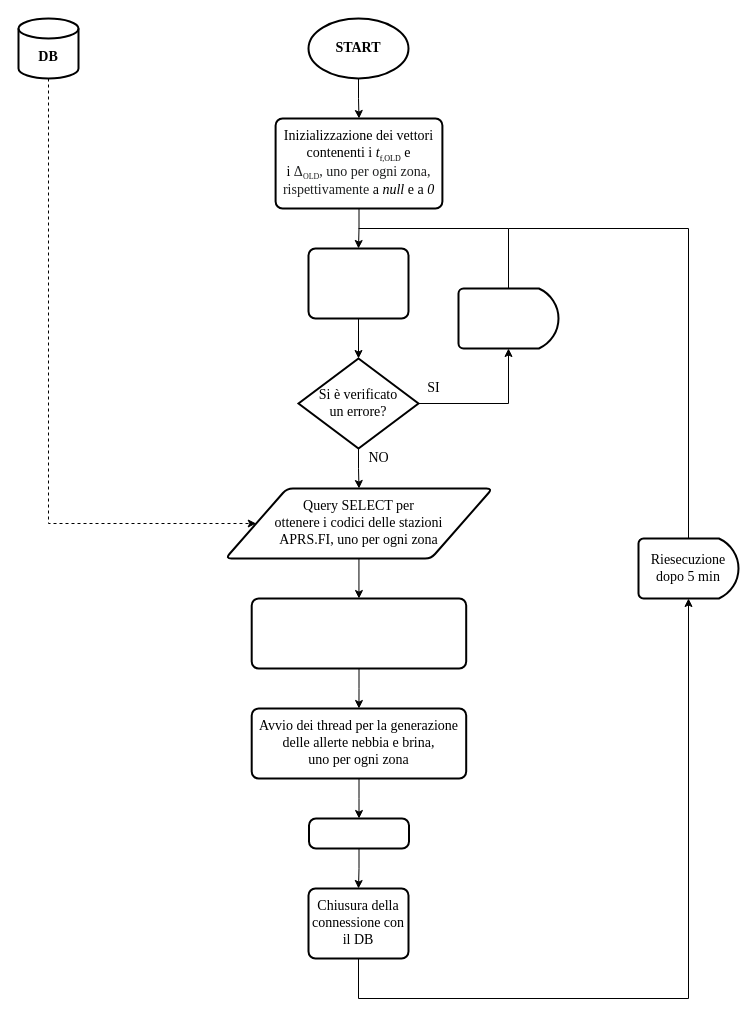
Image size: 756x1024. Some labels were removed from this diagram. Each missing label, with the box of its shape:
Apertura della connessione con il DB: (307, 247, 409, 319)
Avvio dei thread per la generazione delle allerte maltempo, uno per ogni zona: (250, 597, 467, 669)
JOIN: (308, 817, 410, 849)
Nuovo tentativo dopo 15 sec: (457, 287, 559, 349)
